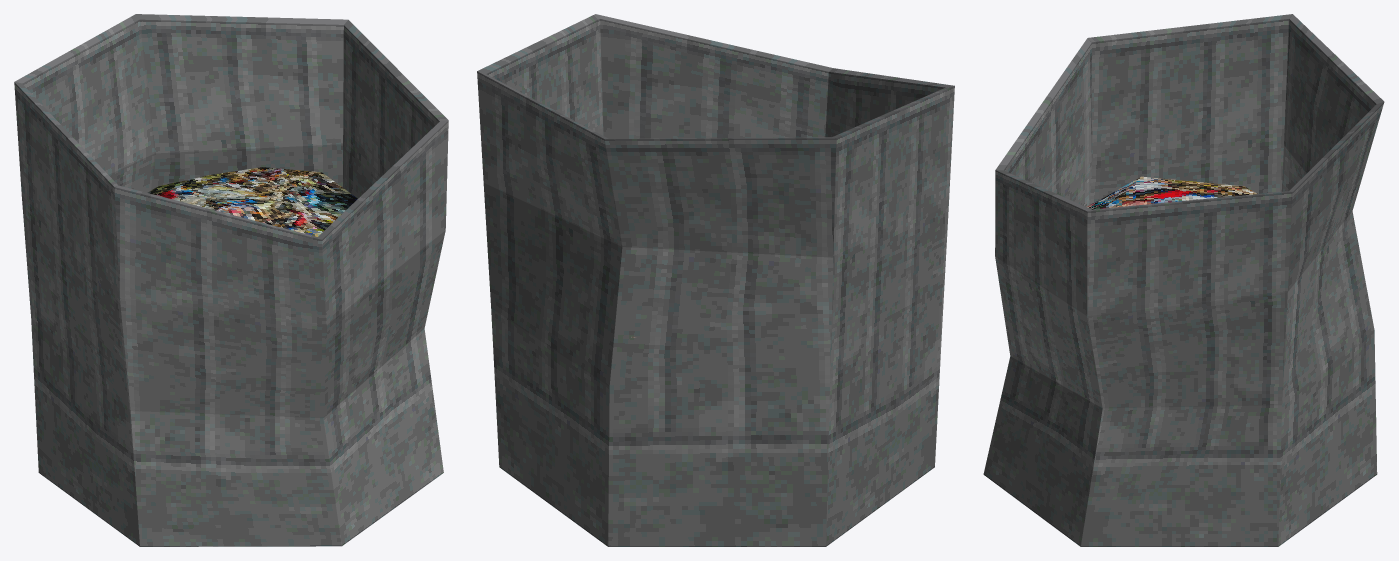
The model's file is metaltrashcan_beaten_filled.glb.
3 renders of one model, left to right at view 1: azimuth 30°, elevation 25°; view 2: azimuth 150°, elevation 25°; view 3: azimuth 270°, elevation 25°, orthographic. The views are drawn at different scales.
Visible parts, largest first — view 1: metaltrashcan_beaten_filled; view 2: metaltrashcan_beaten_filled; view 3: metaltrashcan_beaten_filled.
Boxes of the visible parts, x1,y1,x2,y2 form: metaltrashcan_beaten_filled: [14, 14, 448, 546]; metaltrashcan_beaten_filled: [477, 14, 954, 546]; metaltrashcan_beaten_filled: [983, 14, 1384, 546].
Size of the model in its own units: 0.7373 by 0.8092 by 0.7736.
Materials: 2 (2 with a texture image).
